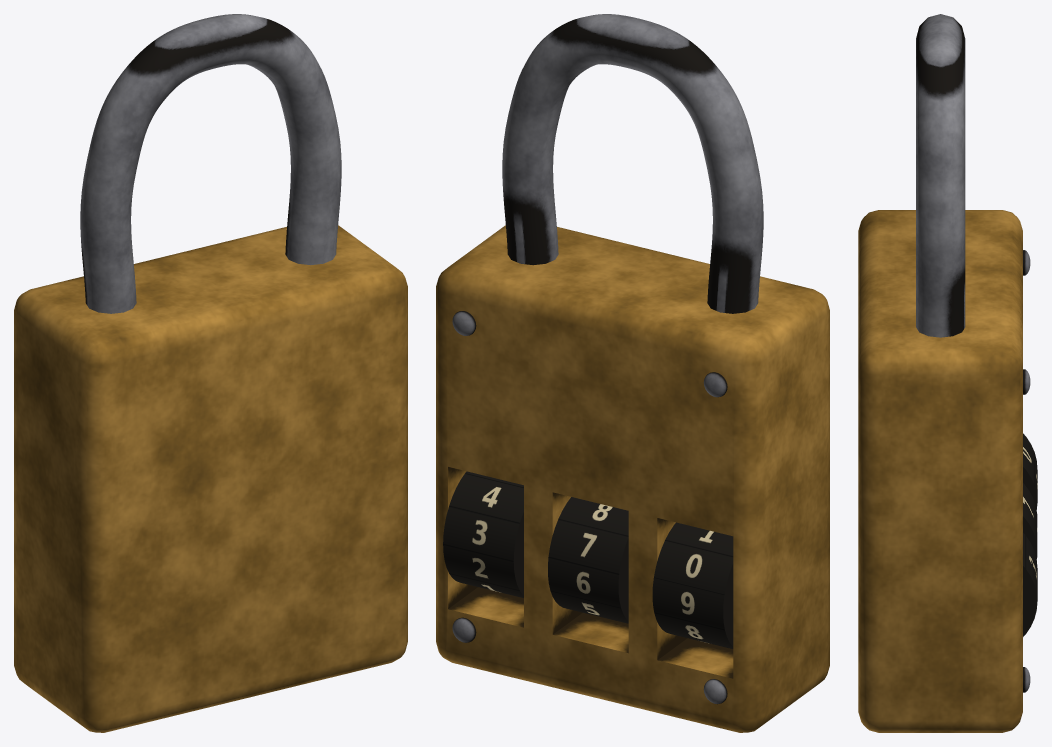
File: padlock.glb
3 views of the same model, side by side, from view 1: azimuth 30°, elevation 25°; view 2: azimuth 150°, elevation 25°; view 3: azimuth 270°, elevation 25° (orthographic). The views are drawn at different scales.
Visible parts, largest first — view 1: Body, Shackle; view 2: Body, Shackle, Wheel0, Wheel1, Wheel2, Rivets; view 3: Body, Shackle, Wheel2, Wheel1, Wheel0, Rivets.
Boxes of the visible parts, x1=… form: Body: x1=14, y1=225, x2=407, y2=732; Shackle: x1=80, y1=14, x2=341, y2=313; Body: x1=436, y1=225, x2=829, y2=732; Shackle: x1=502, y1=14, x2=763, y2=313; Wheel0: x1=652, y1=522, x2=733, y2=648; Wheel1: x1=548, y1=497, x2=628, y2=623; Wheel2: x1=443, y1=471, x2=523, y2=597; Rivets: x1=452, y1=311, x2=727, y2=704; Body: x1=858, y1=210, x2=1022, y2=732; Shackle: x1=916, y1=14, x2=965, y2=337; Wheel2: x1=1023, y1=533, x2=1037, y2=636; Wheel1: x1=1023, y1=483, x2=1037, y2=558; Wheel0: x1=1023, y1=433, x2=1037, y2=509; Rivets: x1=1023, y1=250, x2=1030, y2=692.
Bounding box in the file's own units: 0.062 × 0.1192 × 0.0305.
6 materials, 6 textured.
